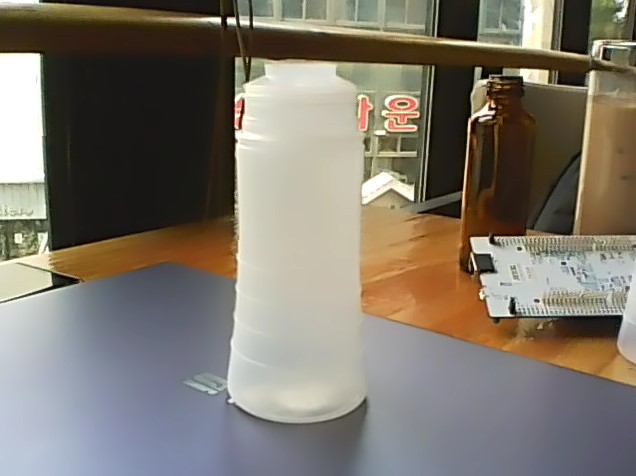Plastic: (222, 57, 372, 428)
